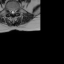CCS_severe_stenosis: (12, 8, 13, 15)
LFS_normal: (15, 7, 17, 13)
LLS_normal: (13, 7, 15, 14)
RFS_normal: (8, 7, 10, 13)
RLS_normal: (10, 7, 12, 15)
